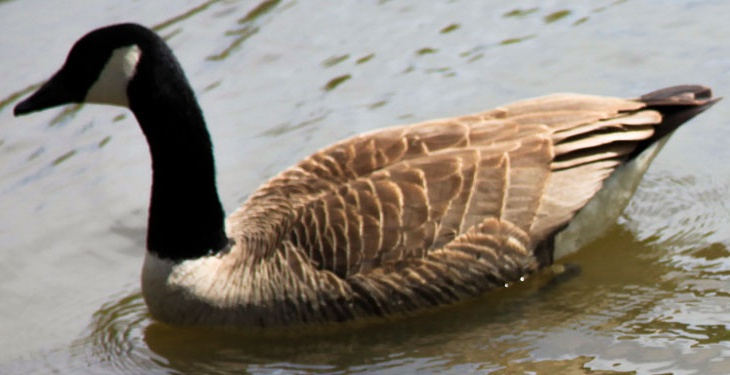goose: (10, 22, 727, 336)
